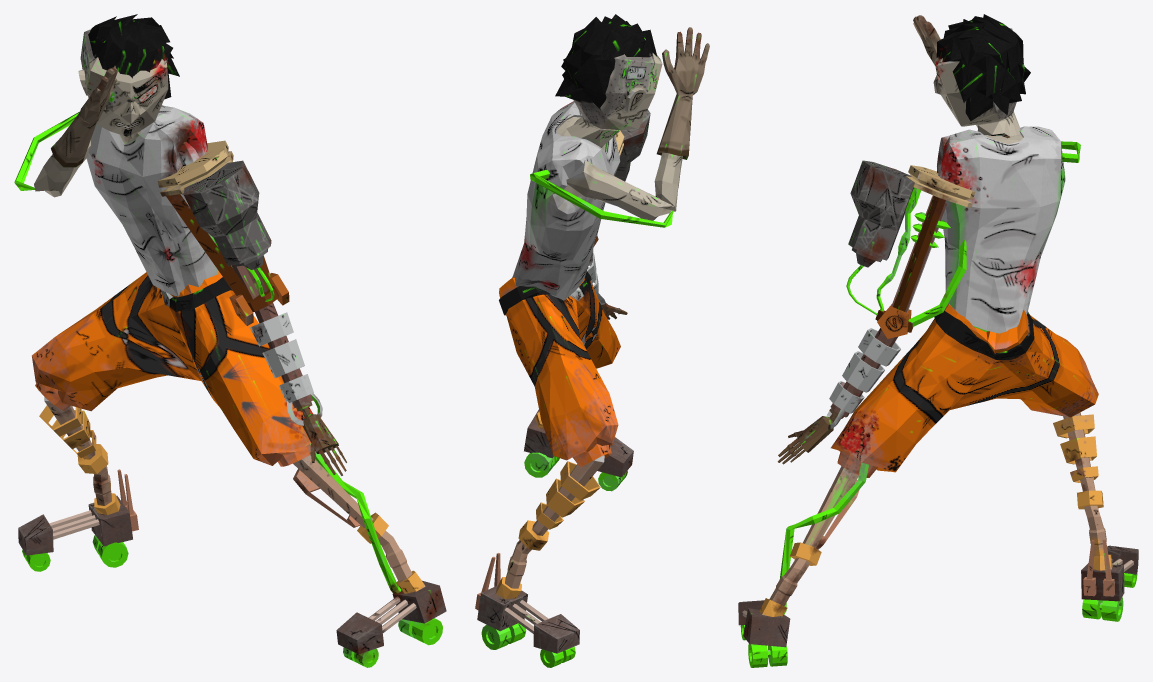
The model's file is CyborgFINALAnimation_000043.obj.
The picture shows the model from 3 angles, left to right: view 1: azimuth 30°, elevation 25°; view 2: azimuth 150°, elevation 25°; view 3: azimuth 270°, elevation 25°; orthographic projection. The views are drawn at different scales.
Parts seen in each view (by area): view 1: CyborgMesh_Cube.002; view 2: CyborgMesh_Cube.002; view 3: CyborgMesh_Cube.002.
Part boxes in pixels (left/top/right/bottom): CyborgMesh_Cube.002: left=14, top=14, right=446, bottom=667; CyborgMesh_Cube.002: left=475, top=14, right=709, bottom=667; CyborgMesh_Cube.002: left=738, top=14, right=1138, bottom=667.
Bounding box in the file's own units: 4.24 × 8.64 × 5.44.
